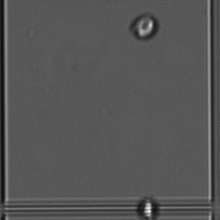Living Cell: (126, 10, 162, 46), (138, 196, 159, 218)
